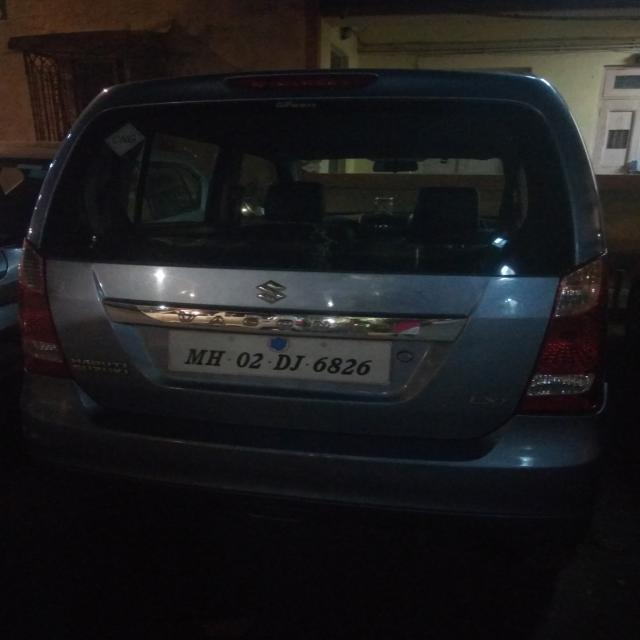Number-Plate: (174, 334, 390, 383)
